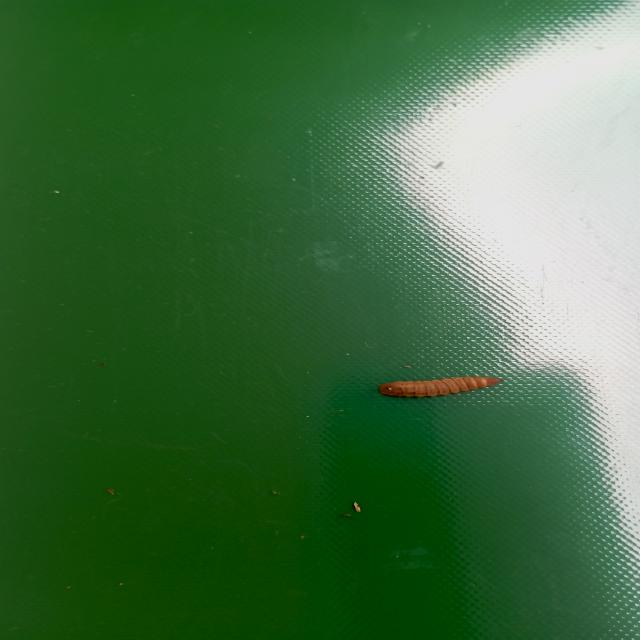Maggot: (376, 376, 508, 402)
